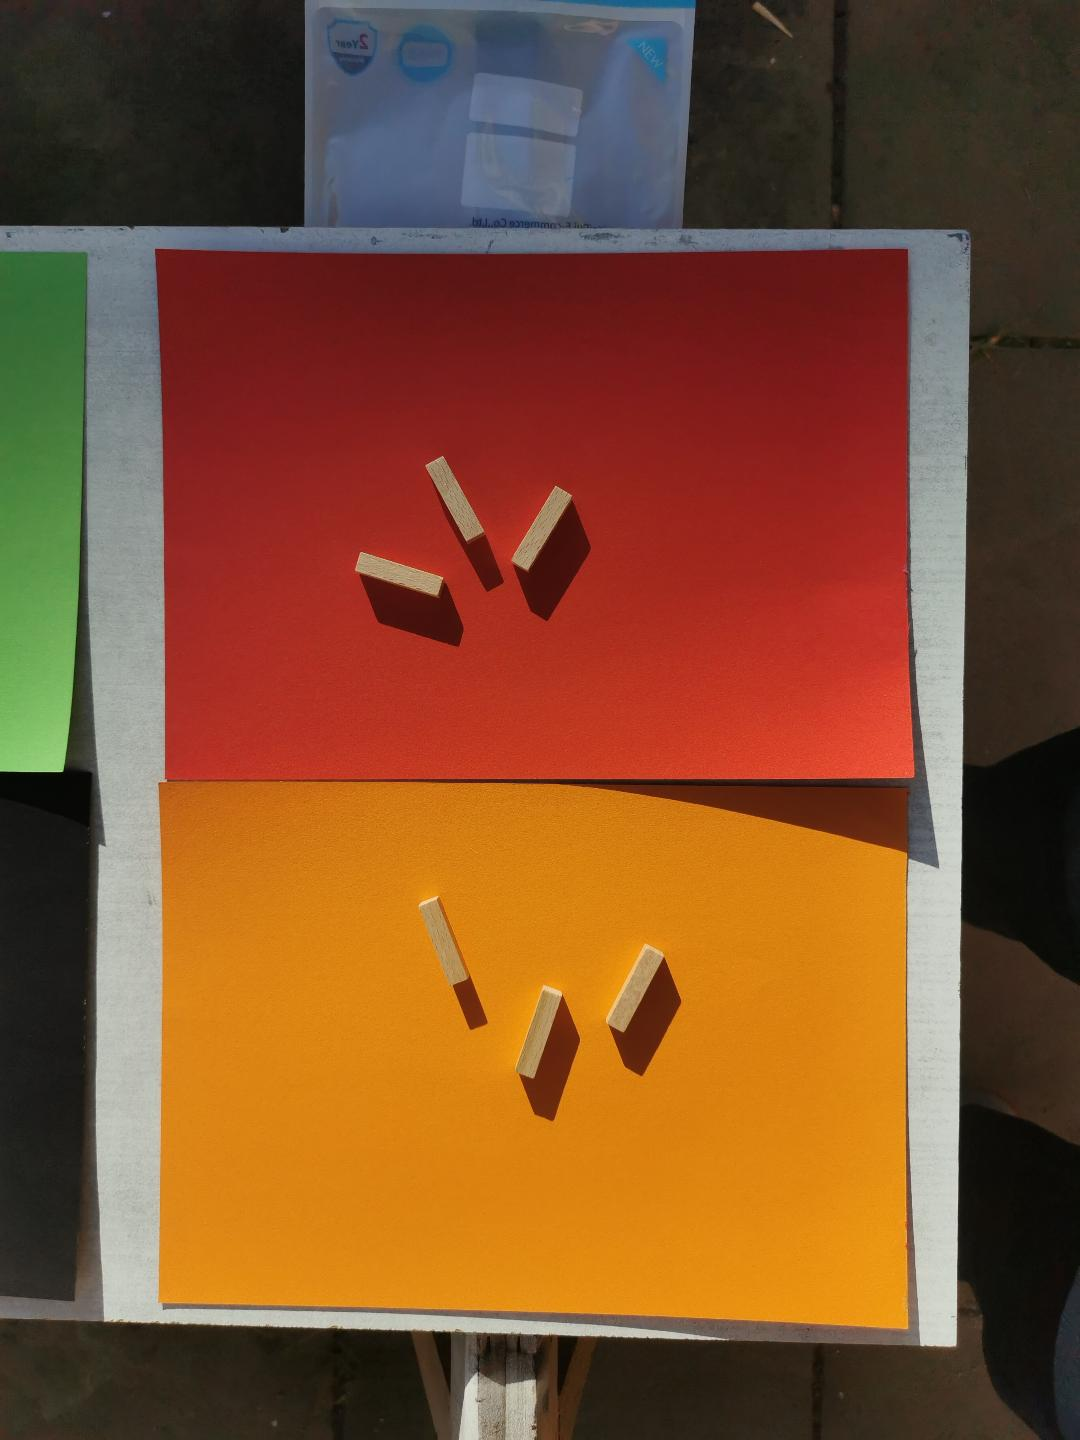jenga: (512, 486, 574, 571), (608, 945, 664, 1032), (428, 458, 483, 543), (419, 897, 470, 984), (515, 988, 563, 1077), (354, 551, 445, 596)
